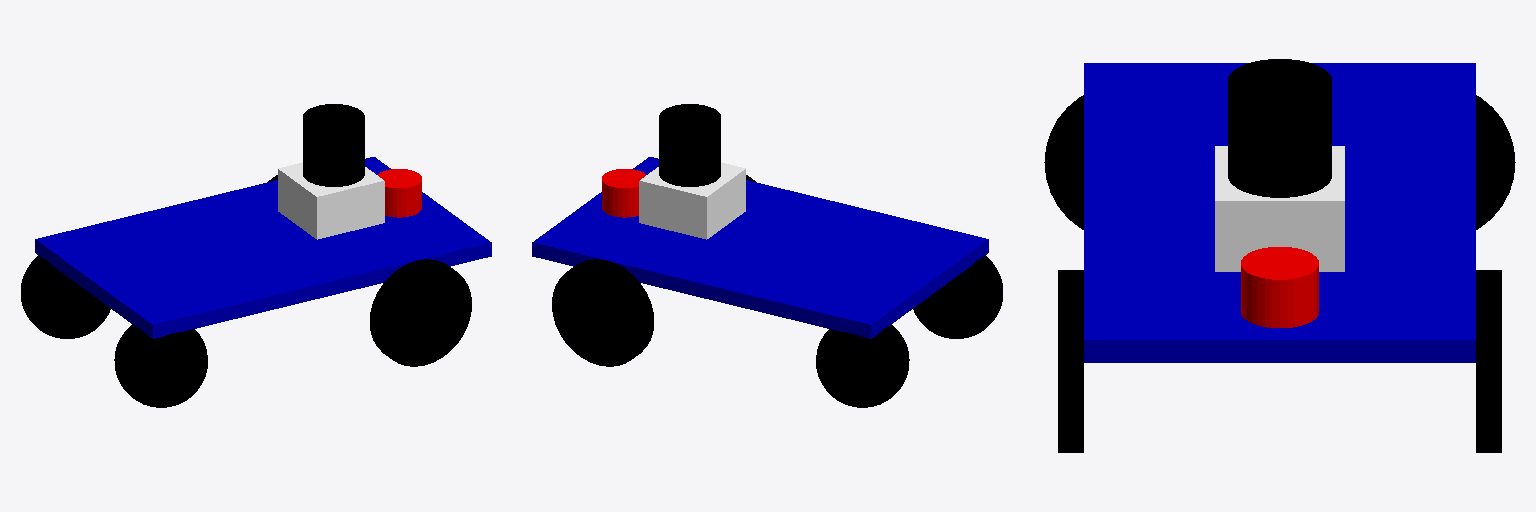
URDF robot description (mobile_robot):
<?xml version="1.0"?>
<robot name="mobile_robot" xmlns:xacro="http://ros.org/wiki/xacro">

  <!-- Colors -->
  <material name="blue">
    <color rgba="0 0 0.8 1"/>
  </material>
  <material name="black">
    <color rgba="0 0 0 1"/>
  </material>
  <material name="white">
    <color rgba="1 1 1 1"/>
  </material>
  <material name="red">
    <color rgba="1 0 0 1"/>
  </material>

  <!-- Base Link -->
  <link name="base_footprint"/>

  <joint name="base_joint" type="fixed">
    <parent link="base_footprint"/>
    <child link="base_link"/>
    <origin xyz="0 0 0.01" rpy="0 0 0"/>
  </joint>

  <link name="base_link">
    <visual>
      <geometry>
        <box size="0.25 0.15 0.01"/>
      </geometry>
      <material name="blue"/>
    </visual>
    <collision>
      <geometry>
        <box size="0.25 0.15 0.01"/>
      </geometry>
    </collision>
    <inertial>
      <mass value="0.5"/>
      <origin xyz="0 0 0" rpy="0 0 0"/>
      <inertia ixx="0.00083" ixy="0" ixz="0" 
               iyy="0.00083" iyz="0" 
               izz="0.00083"/>
    </inertial>
  </link>

  <!-- Left Wheel -->
  <link name="left_wheel">
    <visual>
      <geometry>
        <cylinder length="0.01" radius="0.035"/>
      </geometry>
      <material name="black"/>
    </visual>
    <collision>
      <geometry>
        <cylinder length="0.01" radius="0.035"/>
      </geometry>
    </collision>
    <inertial>
      <mass value="0.1"/>
      <origin xyz="0 0 0" rpy="0 0 0"/>
      <inertia ixx="0.00004" ixy="0" ixz="0" 
               iyy="0.00004" iyz="0" 
               izz="0.00004"/>
    </inertial>
  </link>

  <joint name="left_wheel_joint" type="continuous">
    <parent link="base_link"/>
    <child link="left_wheel"/>
    <origin xyz="0.07 0.08 -0.03" rpy="-1.5707 0 0"/>
    <axis xyz=" 0 0 1"/>
  </joint>

  <!-- Right Wheel -->
  <link name="right_wheel">
    <visual>
      <geometry>
        <cylinder length="0.01" radius="0.035"/>
      </geometry>
      <material name="black"/>
    </visual>
    <collision>
      <geometry>
        <cylinder length="0.01" radius="0.035"/>
      </geometry>
    </collision>
    <inertial>
      <mass value="0.1"/>
      <origin xyz="0 0 0" rpy="0 0 0"/>
      <inertia ixx="0.00004" ixy="0" ixz="0" 
               iyy="0.00004" iyz="0" 
               izz="0.00004"/>
    </inertial>
  </link>

  <joint name="right_wheel_joint" type="continuous">
    <parent link="base_link"/>
    <child link="right_wheel"/>
    <origin xyz="0.07 -0.08 -0.03" rpy="-1.5707 0 0"/>
    <axis xyz="0 0 1"/>
  </joint>

  <!-- Left Caster Wheel -->
  <link name="left_caster">
    <visual>
      <geometry>
        <sphere radius="0.03"/>
      </geometry>
      <material name="black"/>
    </visual>
    <collision>
      <geometry>
        <sphere radius="0.03"/>
      </geometry>
    </collision>
    <inertial>
      <mass value="0.05"/>
      <origin xyz="0 0 0" rpy="0 0 0"/>
      <inertia ixx="0.00001" ixy="0" ixz="0" 
               iyy="0.00001" iyz="0" 
               izz="0.00001"/>
    </inertial>
  </link>

  <joint name="left_caster_joint" type="continuous">
    <parent link="base_link"/>
    <child link="left_caster"/>
    <origin xyz="-0.11 0.06 -0.03" rpy="-1.5707 0 0"/>
    <axis xyz ="0 0 1"/>
  </joint>

  <!-- Right Caster Wheel -->
  <link name="right_caster">
    <visual>
      <geometry>
        <sphere radius="0.03"/>
      </geometry>
      <material name="black"/>
    </visual>
    <collision>
      <geometry>
        <sphere radius="0.03"/>
      </geometry>
    </collision>
    <inertial>
      <mass value="0.05"/>
      <origin xyz="0 0 0" rpy="0 0 0"/>
      <inertia ixx="0.00001" ixy="0" ixz="0" 
               iyy="0.00001" iyz="0" 
               izz="0.00001"/>
    </inertial>
  </link>

  <joint name="right_caster_joint" type="continuous">
    <parent link="base_link"/>
    <child link="right_caster"/>
    <origin xyz="-0.11 -0.06 -0.03" rpy="-1.5707 0 0"/>
     <axis xyz=" 0 0 1"/>
  </joint>

  <!-- Top Box -->
  <link name="top_box">
    <visual>
      <geometry>
        <box size="0.05 0.05 0.03"/>
      </geometry>
      <material name="white"/>
    </visual>
    <collision>
      <geometry>
        <box size="0.05 0.05 0.03"/>
      </geometry>
    </collision>
    <inertial>
      <mass value="0.1"/>
      <origin xyz="0 0 0" rpy="0 0 0"/>
      <inertia ixx="0.00004" ixy="0" ixz="0" 
               iyy="0.00004" iyz="0" 
               izz="0.00004"/>
    </inertial>
  </link>

  <joint name="top_box_joint" type="fixed">
    <parent link="base_link"/>
    <child link="top_box"/>
    <origin xyz="0.05 0 0.025" rpy="0 0 0"/>
  </joint>

  <!-- LIDAR SETUP -->
  <link name="lidar_link">
    <collision>
      <origin xyz="0 0 0" rpy="0 0 0"/>
      <geometry>
        <cylinder radius="0.02" length="0.05"/>
      </geometry>
    </collision>
    <visual>
      <origin xyz="0 0 0" rpy="0 0 0"/>
      <geometry>
        <cylinder radius="0.02" length="0.05"/>
      </geometry>
      <material name="black"/>
    </visual>
    <inertial>
      <mass value="0.114" />
      <origin xyz="0 0 0" rpy="0 0 0"/>
      <inertia ixx="0.001" ixy="0" ixz="0" iyy="0.001" iyz="0" izz="0.001" />
    </inertial>
  </link>

  <joint name="lidar_joint" type="fixed">
    <parent link="top_box"/>
    <child link="lidar_link"/>
    <origin xyz="0.002 0 0.03" rpy="0 0 0"/>
  </joint>

  <!-- Camera -->
  <link name="camera_link">
    <visual>
      <geometry>
        <cylinder radius="0.015" length="0.031" />
      </geometry>
      <material name="red" />
    </visual>
    <collision>
      <geometry>
        <cylinder radius="0.002" length="0.031" />
      </geometry>
    </collision>
    <inertial>
      <mass value="0.1" />
      <inertia ixx="0.001" ixy="0" ixz="0" iyy="0.001" iyz="0" izz="0.001" />
    </inertial>
  </link>

  <joint name="camera_joint" type="fixed">
    <parent link="base_link" />
    <child link="camera_link" />
    <origin rpy="0 0 0" xyz="0.1 0 0.01" />
  </joint>

 
</robot>

--- Render facts (derived) ---
The picture shows the robot from 3 angles, left to right: view 1: azimuth 30°, elevation 25°; view 2: azimuth 150°, elevation 25°; view 3: azimuth 270°, elevation 25°; orthographic projection.
Robot: mobile_robot — 9 links, 8 joints (4 continuous, 4 fixed); root link base_footprint; default pose: all joints at 0.
Visible links, largest first — view 1: base_link, right_wheel, right_caster, top_box, lidar_link, left_caster, camera_link; view 2: base_link, left_wheel, left_caster, top_box, lidar_link, right_caster, camera_link; view 3: base_link, lidar_link, top_box, camera_link, left_wheel, right_wheel, left_caster, right_caster.
Boxes of the visible links, x1,y1,x2,y2 form: base_link: [35, 157, 491, 338]; right_wheel: [370, 259, 471, 366]; right_caster: [114, 324, 207, 407]; top_box: [278, 162, 384, 239]; lidar_link: [303, 104, 364, 186]; left_caster: [21, 256, 110, 338]; camera_link: [378, 169, 421, 217]; base_link: [532, 157, 988, 338]; left_wheel: [552, 259, 653, 366]; left_caster: [816, 324, 909, 407]; top_box: [639, 162, 745, 239]; lidar_link: [659, 104, 720, 186]; right_caster: [913, 256, 1002, 338]; camera_link: [602, 169, 645, 217]; base_link: [1084, 63, 1475, 362]; lidar_link: [1228, 59, 1331, 197]; top_box: [1215, 146, 1344, 271]; camera_link: [1241, 247, 1318, 327]; left_wheel: [1476, 270, 1501, 452]; right_wheel: [1058, 270, 1083, 452]; left_caster: [1476, 95, 1515, 229]; right_caster: [1044, 95, 1083, 229].
Bounding box of the posed robot: 0.265 × 0.18 × 0.145 m (x, y, z).
Geometry: primitives only (box / cylinder / sphere), no mesh files.